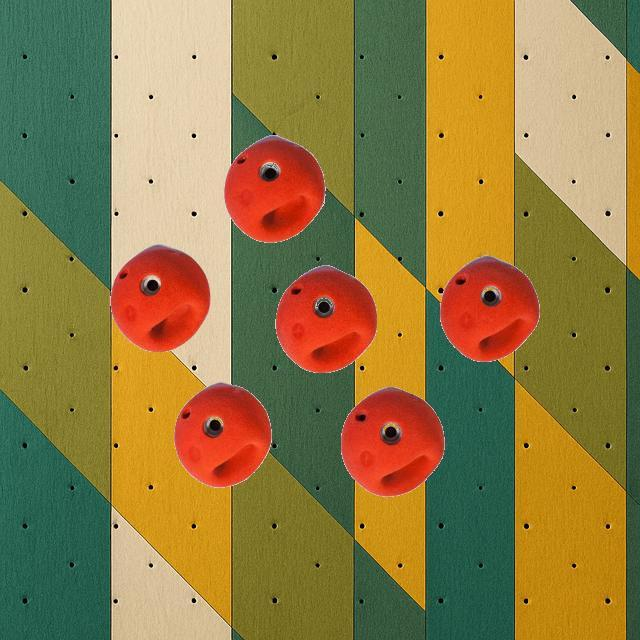Pocket: (341, 387, 446, 496), (275, 264, 378, 373), (223, 135, 327, 241), (111, 244, 212, 351), (440, 256, 542, 361), (174, 382, 273, 486)
